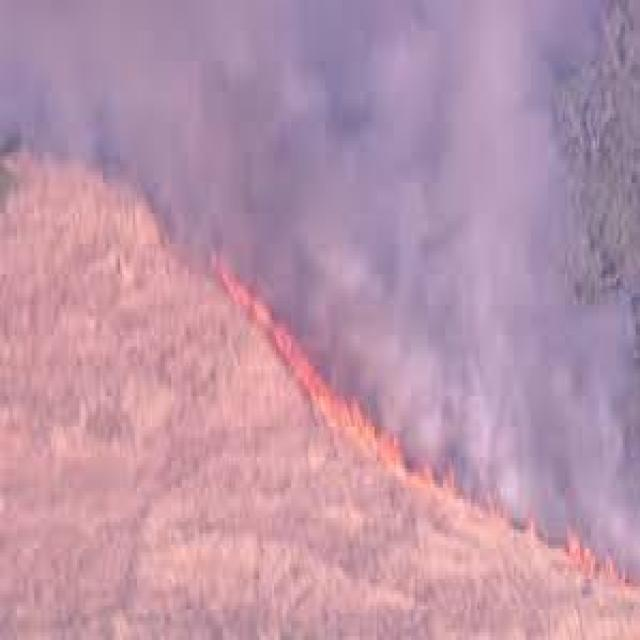Fire: (287, 324, 481, 524), (195, 234, 412, 404), (492, 506, 634, 600)
Smoke: (0, 0, 603, 299), (311, 0, 637, 545), (371, 0, 626, 454), (264, 0, 464, 524), (172, 21, 595, 259)
